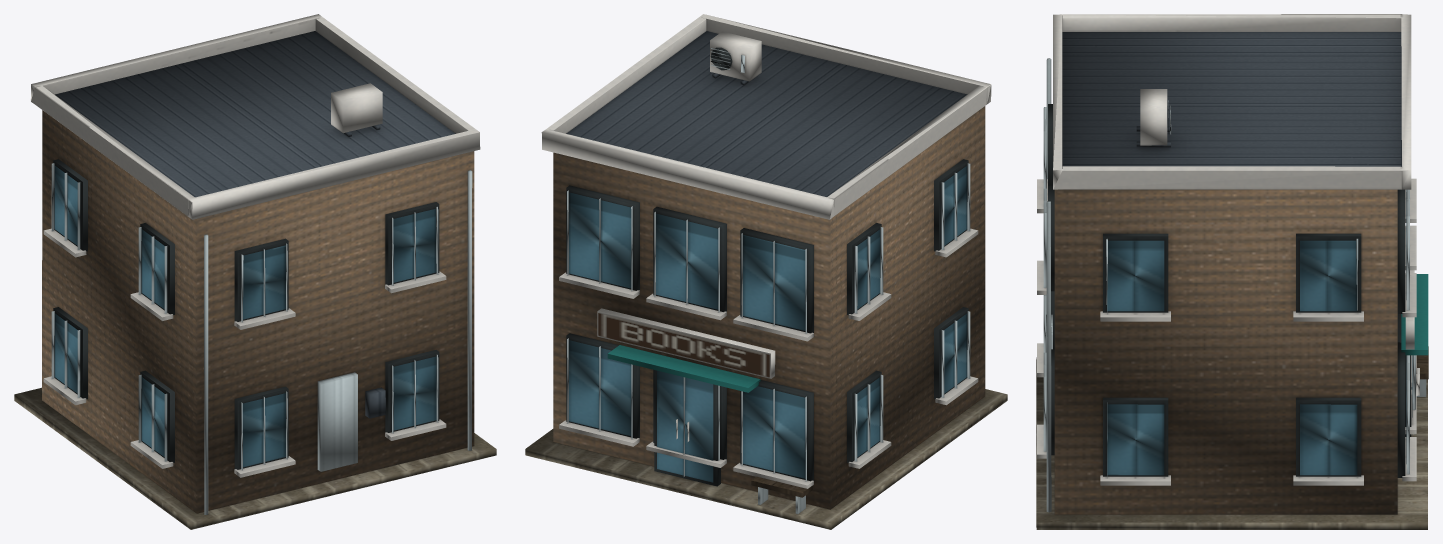
File: public_004.obj
The picture shows the model from 3 angles, left to right: view 1: azimuth 30°, elevation 25°; view 2: azimuth 150°, elevation 25°; view 3: azimuth 270°, elevation 25°; orthographic projection. The views are drawn at different scales.
Parts seen in each view (by area): view 1: public_004; view 2: public_004; view 3: public_004.
Part boxes in pixels (x1,y1,x2,y2): public_004: (14, 14, 496, 529); public_004: (525, 14, 1007, 529); public_004: (1036, 14, 1428, 529).
Bounding box in the file's own units: 6.5 × 7.02 × 6.51.
Materials: 1 (1 with a texture image).
